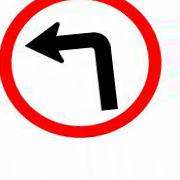left: (1, 1, 163, 138)
